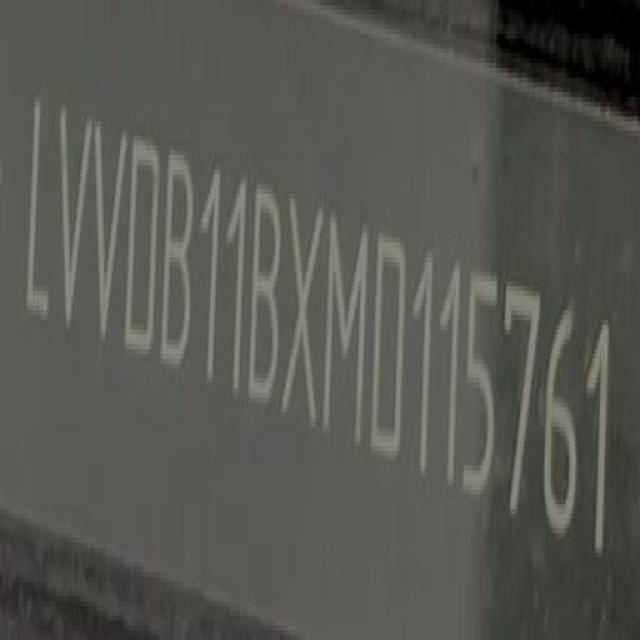1: (587, 322, 614, 552), (439, 262, 465, 490), (411, 250, 436, 478), (199, 145, 220, 388), (225, 171, 247, 402)
5: (462, 255, 503, 499)
6: (541, 302, 580, 548)
7: (502, 271, 542, 528)
B: (245, 178, 280, 408), (160, 145, 193, 379)
D: (123, 130, 161, 358), (370, 225, 406, 465)
L: (24, 86, 56, 329)
M: (323, 214, 370, 447)
V: (58, 100, 92, 344), (93, 115, 127, 355)
X: (280, 196, 321, 426)
